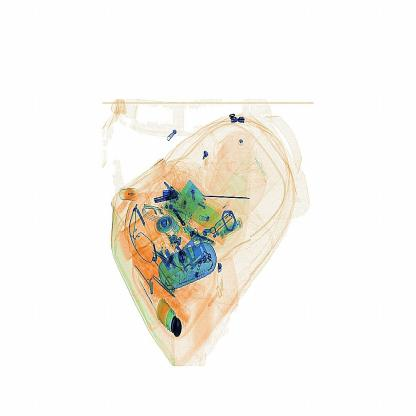wrench: (198, 186, 258, 207)
